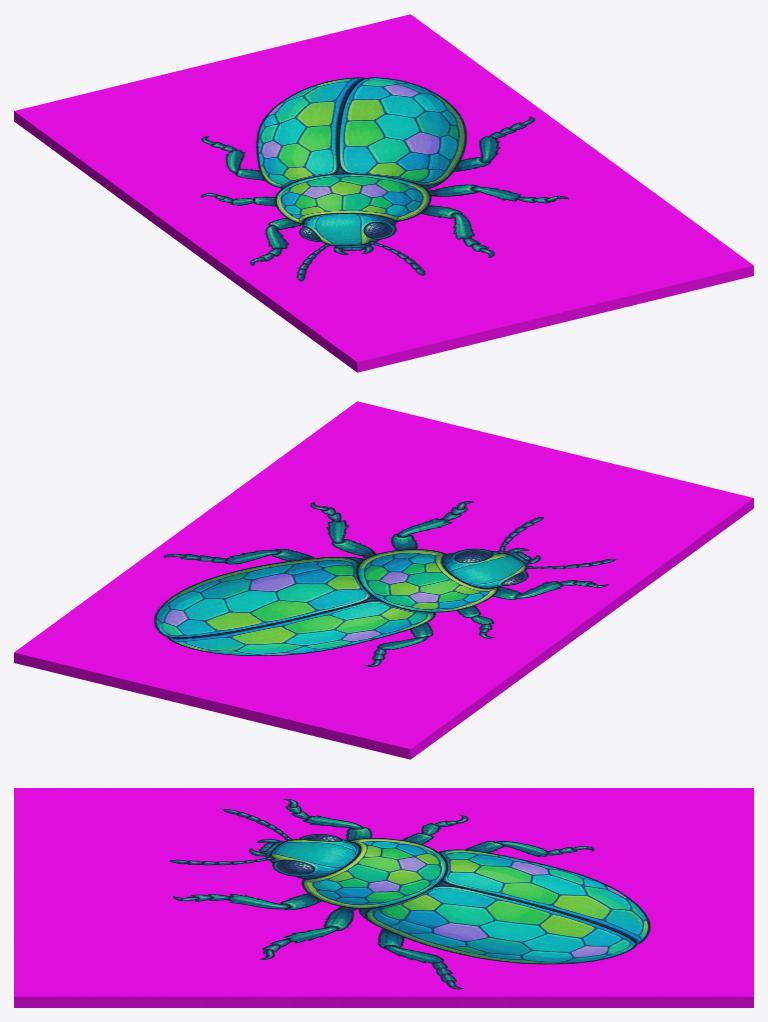
File: beetle_chroma.glb
3 renders of one model, top to bottom at view 1: azimuth 30°, elevation 25°; view 2: azimuth 150°, elevation 25°; view 3: azimuth 270°, elevation 25°, orthographic. The views are drawn at different scales.
Visible parts, largest first — view 1: beetle_chroma; view 2: beetle_chroma; view 3: beetle_chroma.
Boxes of the visible parts, x1,y1,x2,y2 form: beetle_chroma: (14, 14, 753, 372); beetle_chroma: (14, 401, 753, 759); beetle_chroma: (14, 788, 753, 1007).
Size of the model in its own units: 2 by 0.05 by 3.
Materials: 1 (1 with a texture image).
